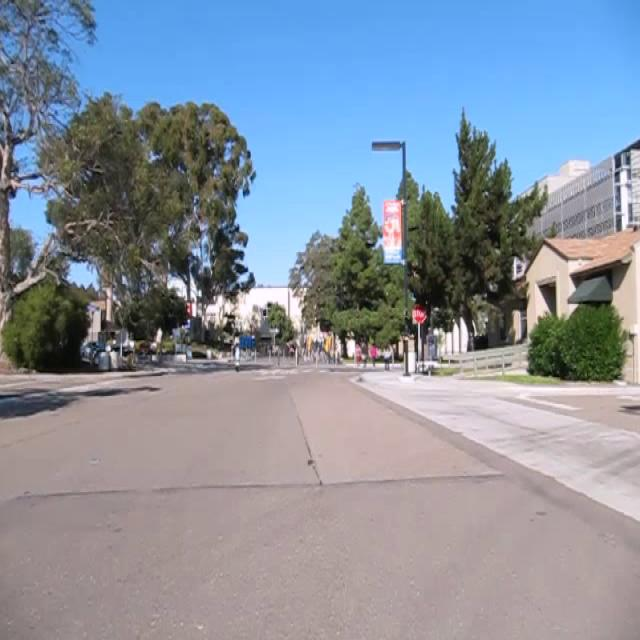stop_sign: (411, 301, 428, 324)
